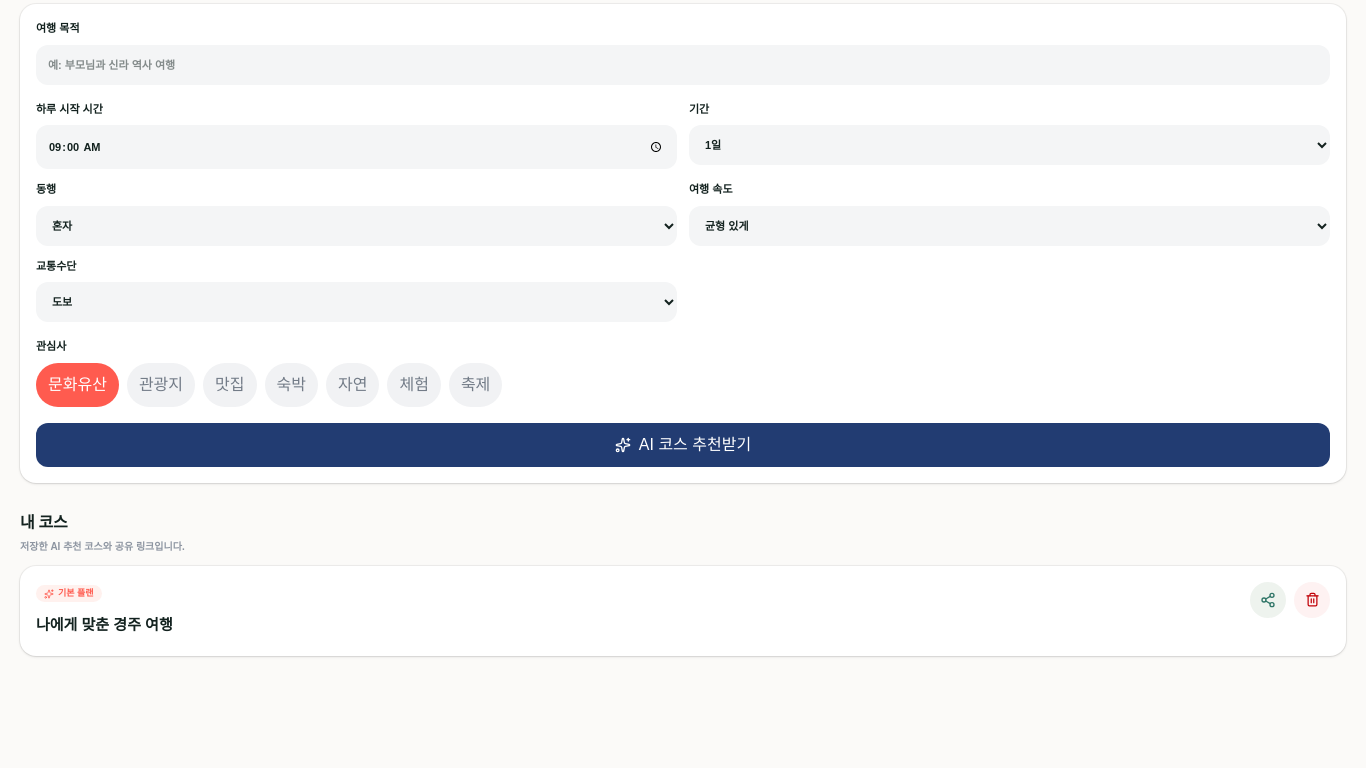
Test case: course, itinerary and cart user flows › lets a traveler delete a saved course after confirming
(page scrolled)
Click the button named "나에게 맞춘 경주 여행 코스 삭제" at (1312, 600), box x1=1294 y1=582 x2=1330 y2=618
(page scrolled)
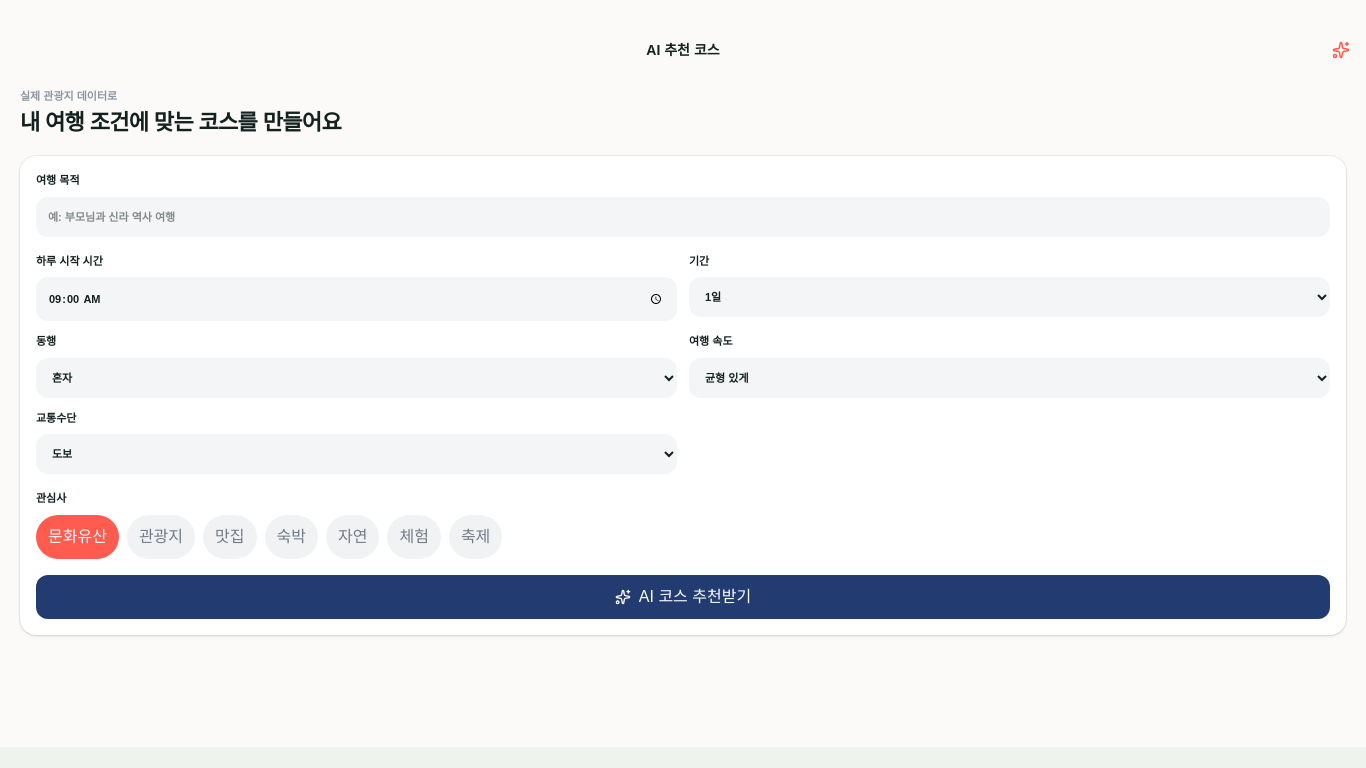
Result: the heading "나에게 맞춘 경주 여행" is gone
